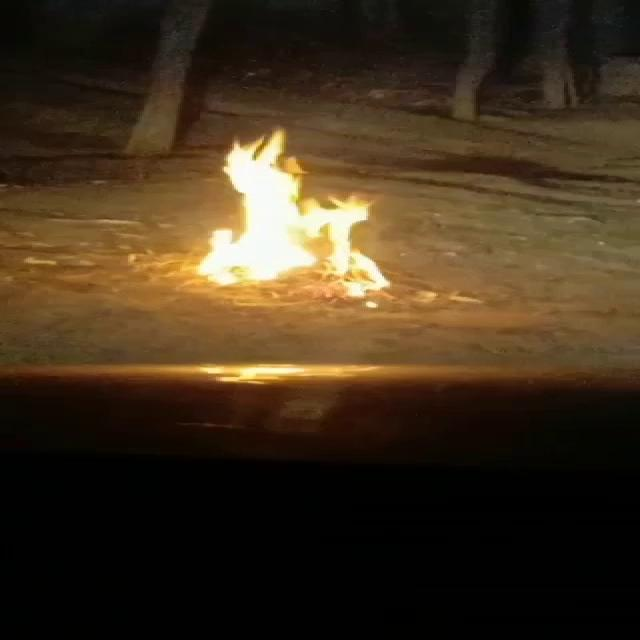Fire: (200, 129, 390, 302)
